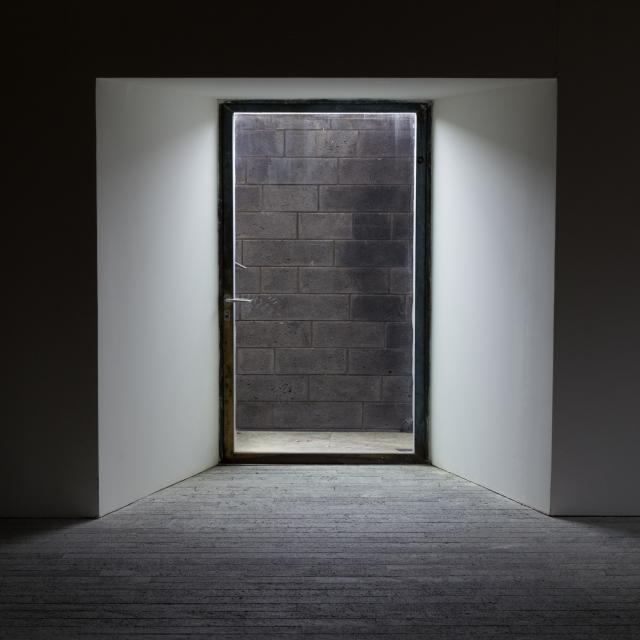floor: (0, 461, 640, 640)
